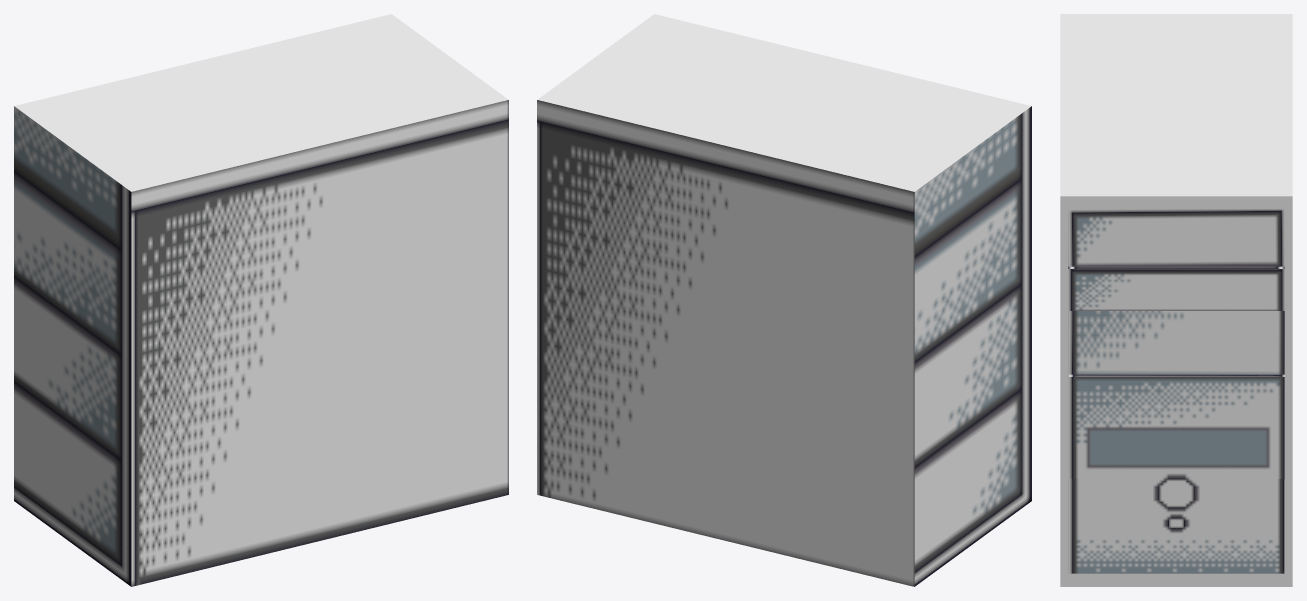
The model's file is computer case.fbx.
3 views of the same model, side by side, from view 1: azimuth 30°, elevation 25°; view 2: azimuth 150°, elevation 25°; view 3: azimuth 270°, elevation 25° (orthographic).
Parts seen in each view (by area): view 1: Cube; view 2: Cube; view 3: Cube.
Boxes of the visible parts, left/top/right/bottom form: Cube: left=14, top=14, right=508, bottom=586; Cube: left=537, top=14, right=1031, bottom=586; Cube: left=1060, top=14, right=1292, bottom=586.
Bounding box in the file's own units: 200 × 200 × 108.
